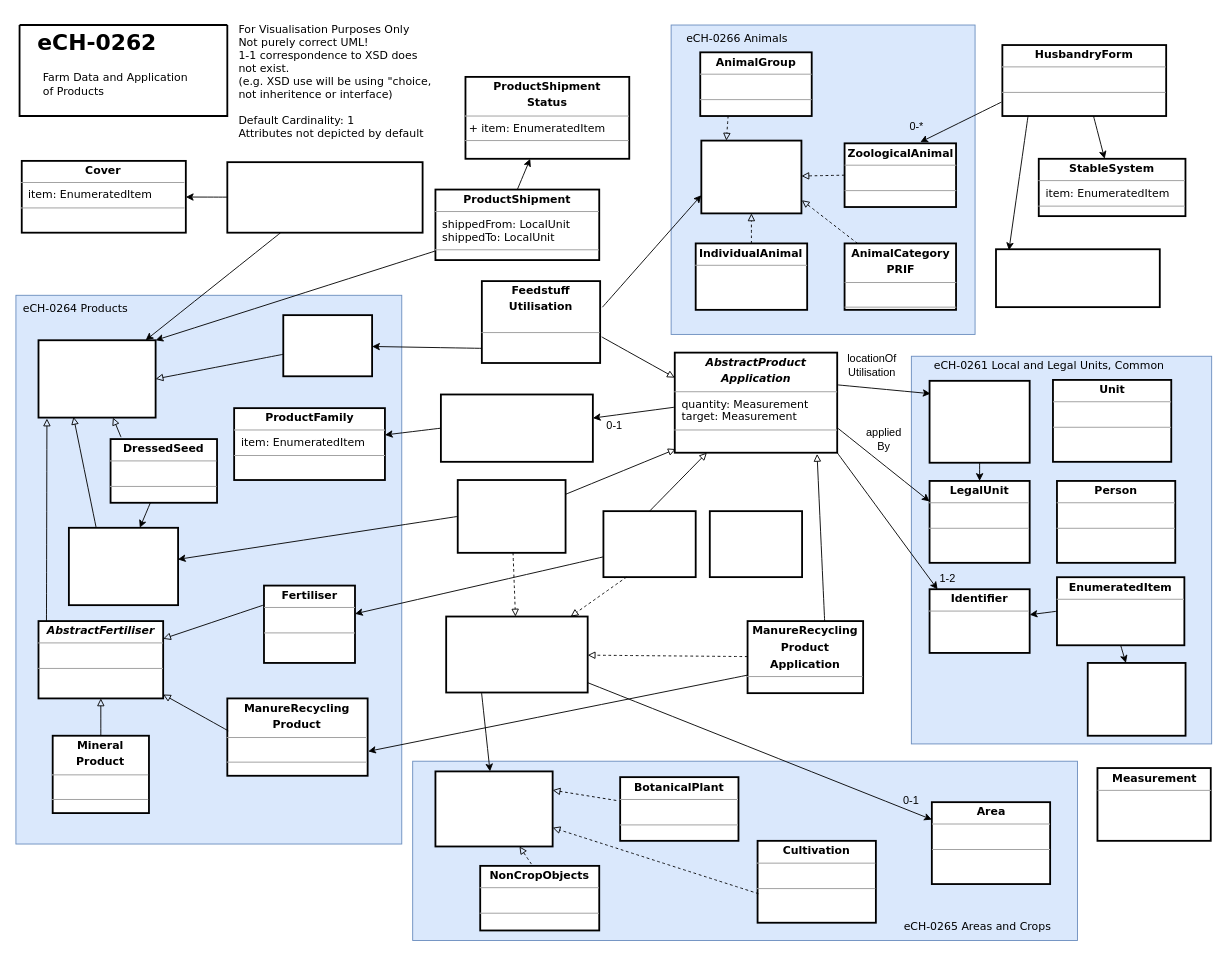
Image size: 1228x956. Some labels were removed from this diagram. Here are the shapes that lost their labels. From the top down, the centre of each, then its label:
At point 751,176: "«interface» Animal".
At point 324,197: "Storage location: eCH-0108:LocalId storageKind: string".
At point 1077,278: "HusbandryKind item: EnumeratedItem".
At point 327,345: "Feedstuff".
At point 96,378: "AbstractProduct".
At point 516,427: "Utilisation Technology item: EnumeratedItem".
At point 979,421: "LocalUnit".
At point 511,516: "PlantProtection Product Application".
At point 649,544: "Fertiliser Utilisation".
At point 755,544: "DateOf Utilisation".
At point 123,566: "PlantProtection Product".
At point 516,654: "«interface» Application Product ToCrop".
At point 1136,699: "Descriptor".
At point 493,808: "«interface» Cultivatable".
